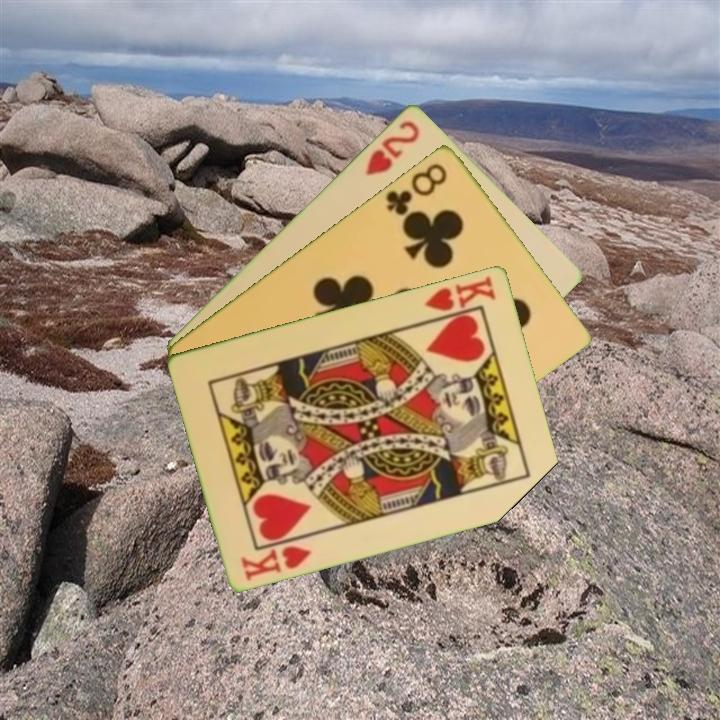2h: (362, 116, 423, 178)
8c: (382, 159, 450, 219)
Kh: (422, 271, 499, 324), (237, 541, 315, 584)
